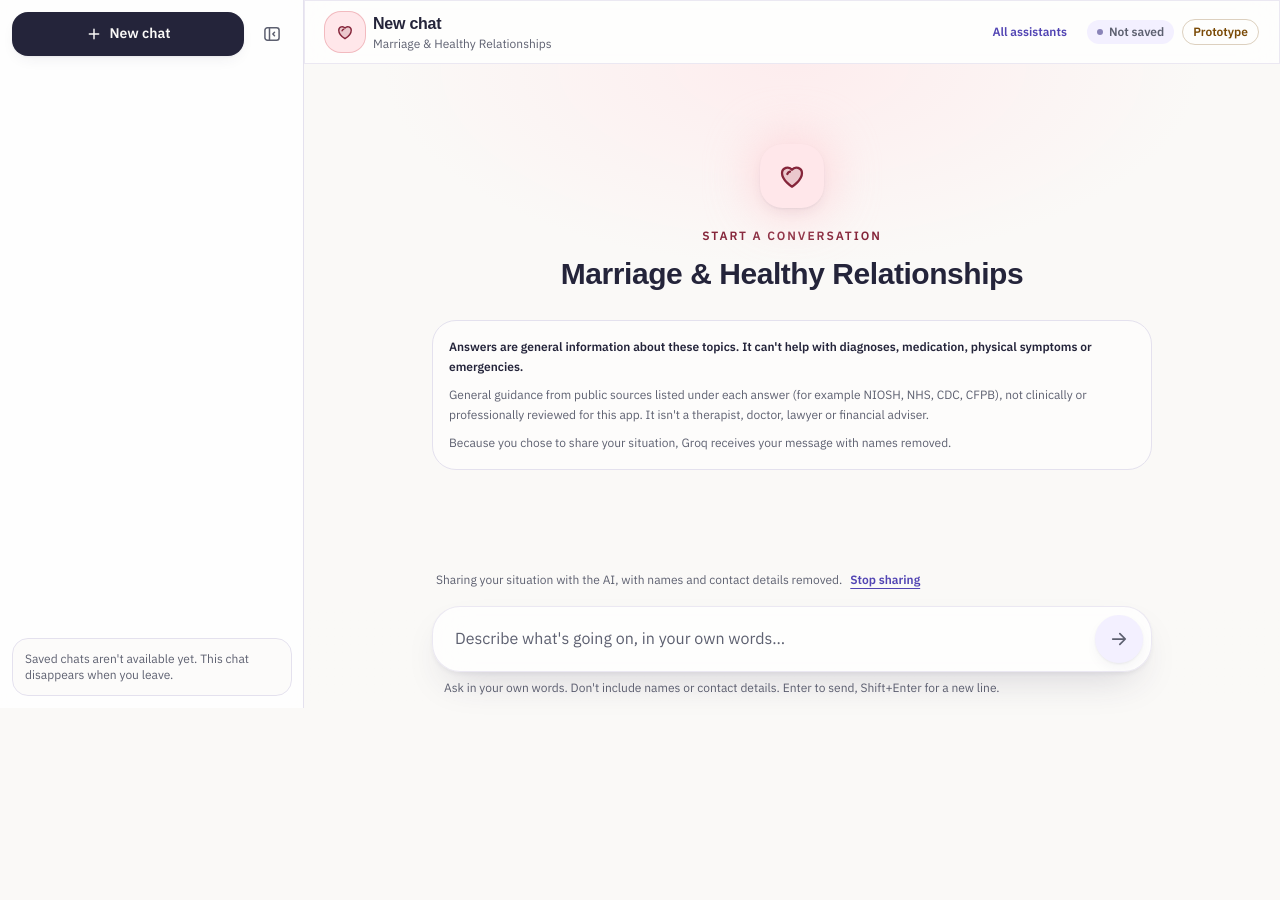
sharing context with the AI (D-59) › shows exactly what the AI received, and labels an uncited reply as general guidance
The image size is (1280, 900).
Type "My wife Sara feels neglected." into the text box named "Ask a general question" at (764, 639), box [441,615,1087,663]
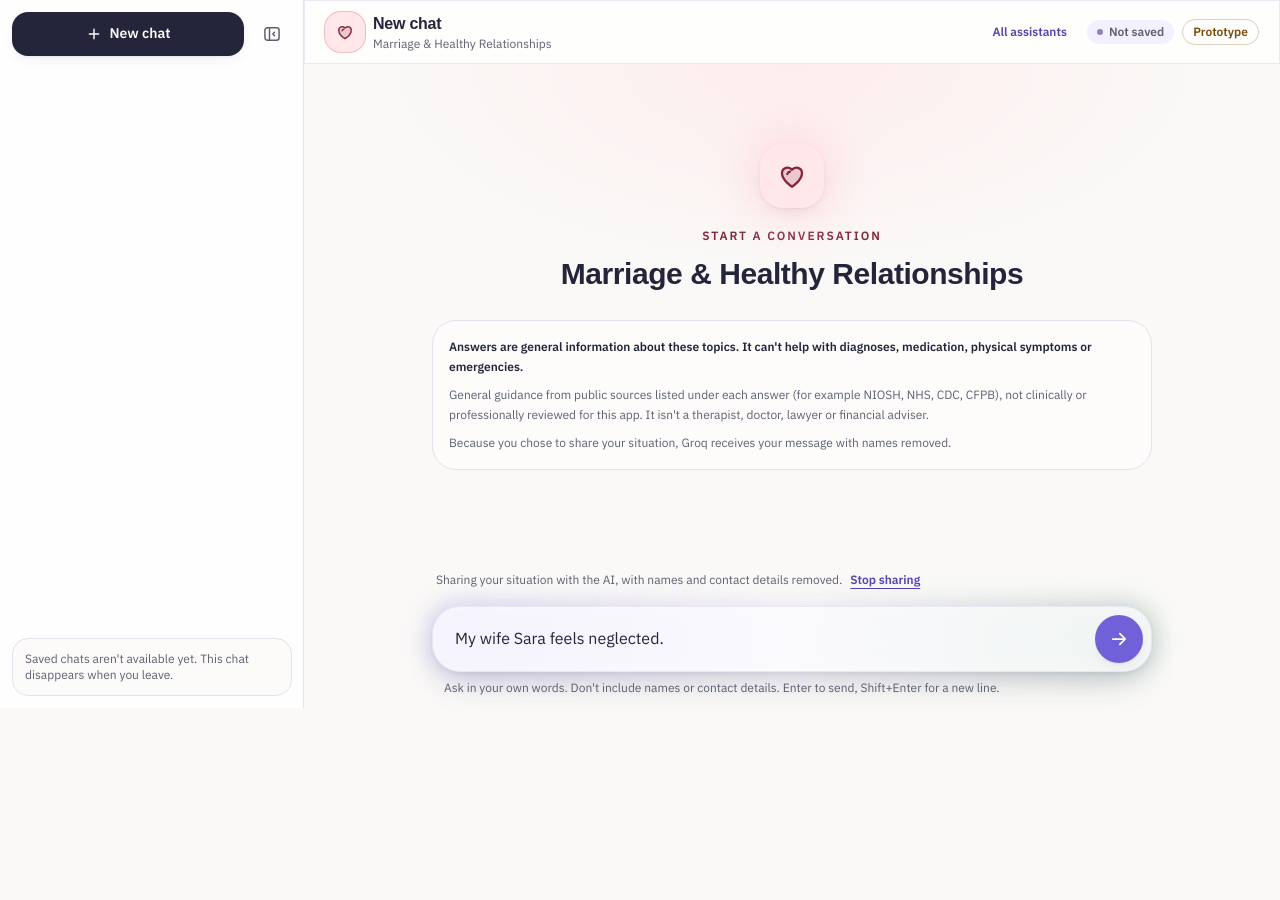
Click the button named "Send" at (1119, 639), box [1095,615,1143,663]
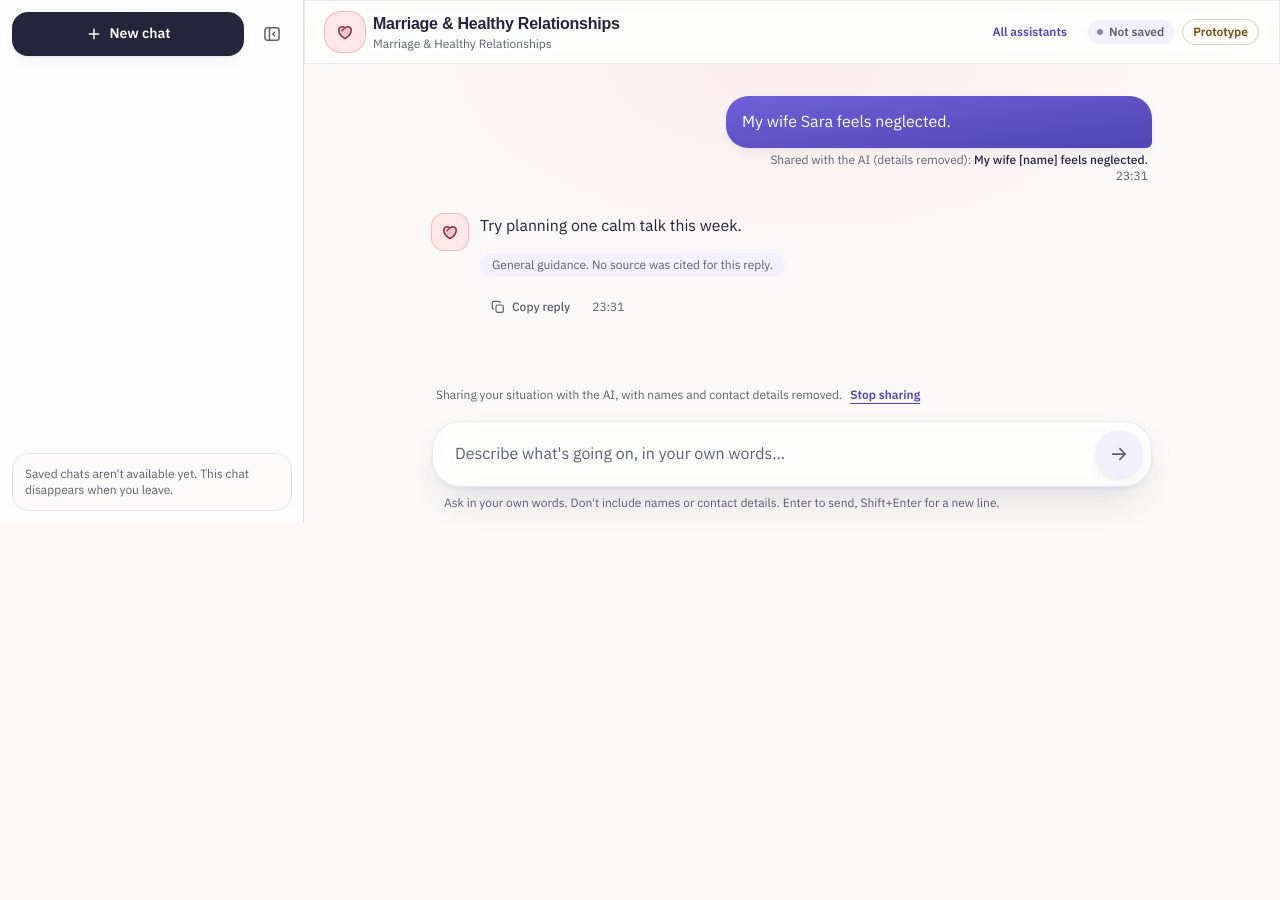
Check: the text "My wife [name] feels neglected." is shown, box [974,151,1148,169]
Check: the text "Shared with the AI (details removed):" is shown, box [770,151,971,169]
Check: the text "General guidance. No source was cited for this reply." is shown, box [480,253,785,277]
